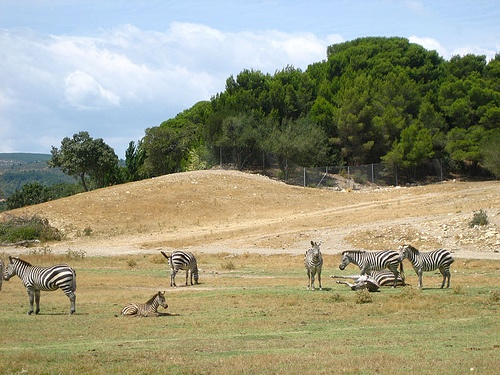zebra: (3, 255, 77, 318), (397, 242, 455, 288), (339, 249, 405, 282), (113, 291, 179, 318), (162, 248, 202, 288), (303, 240, 329, 290)
